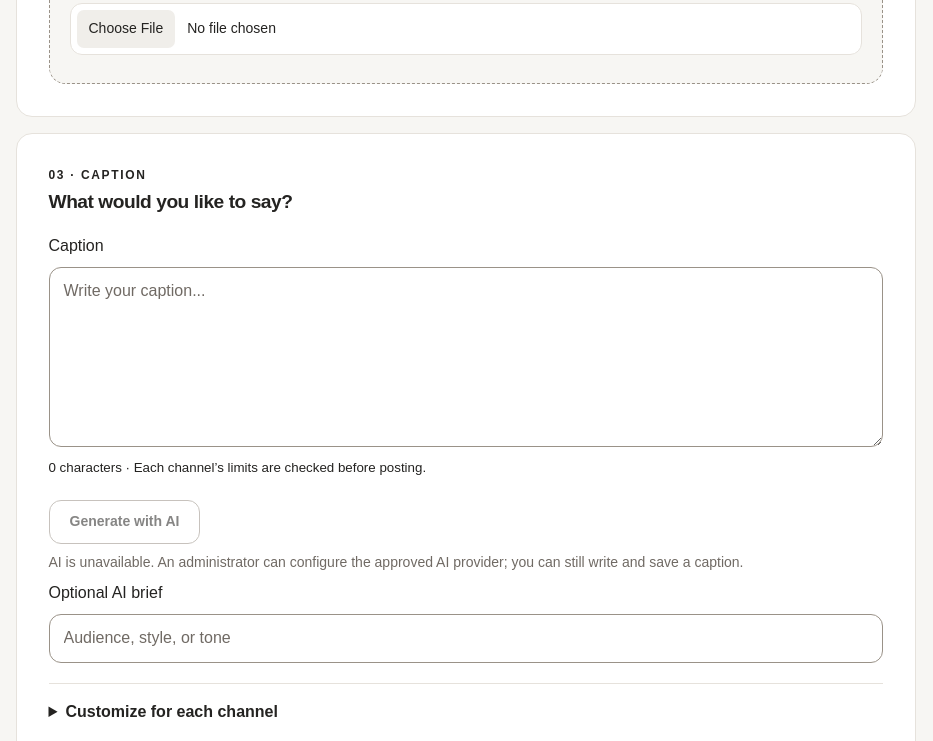
Test: keeps manual editing/media usable while unavailable channels, AI and scheduling remain truthful
(page scrolled)
Type "My own caption" into the text box labelled "Caption".
click(466, 357); type("My own caption")  # box [48, 267, 882, 447]
(page scrolled)
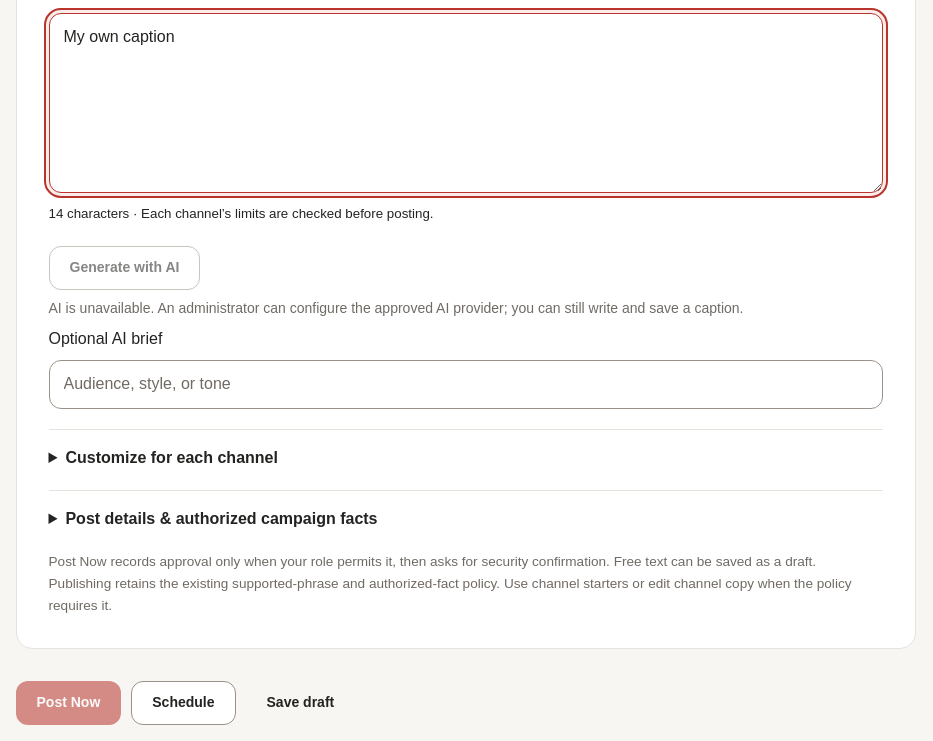
Expected: the button "Generate with AI" is disabled, [48, 246, 200, 290]
Click the button "Schedule".
click(183, 703)  # box [131, 681, 236, 725]
(page scrolled)
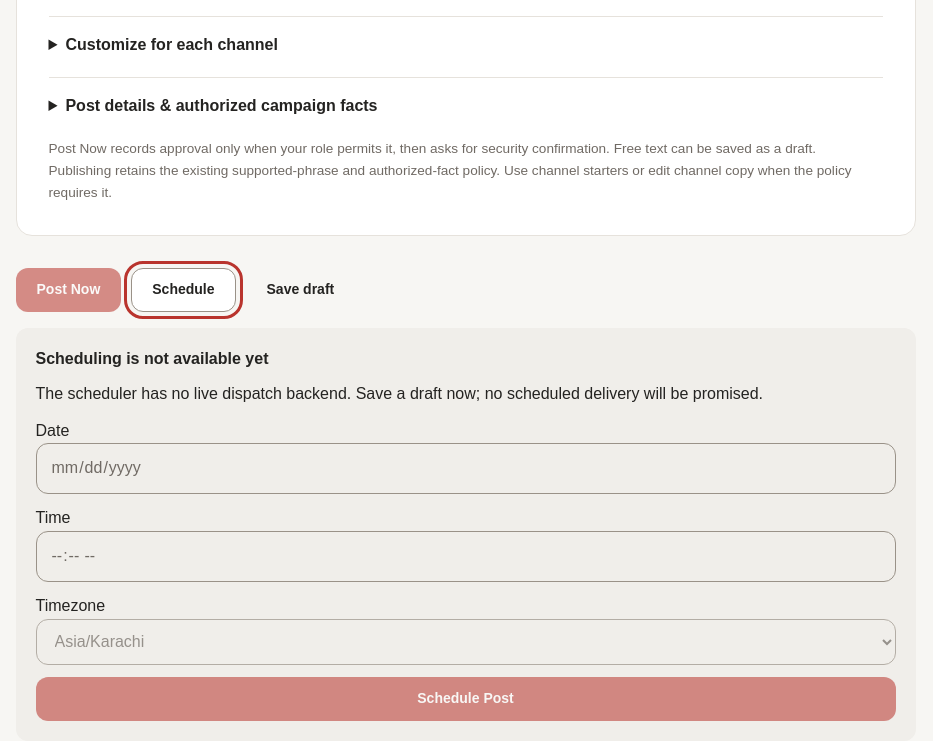
Now the button "Schedule Post" is disabled, box [36, 677, 896, 721]
Now the text "scheduler has no live dispatch backend" is shown, box [36, 385, 763, 402]
